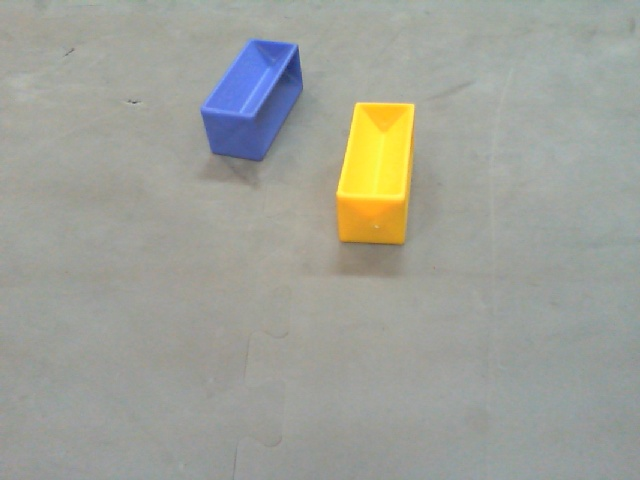BlueSample: (200, 34, 305, 168)
YellowSample: (334, 100, 417, 251)
